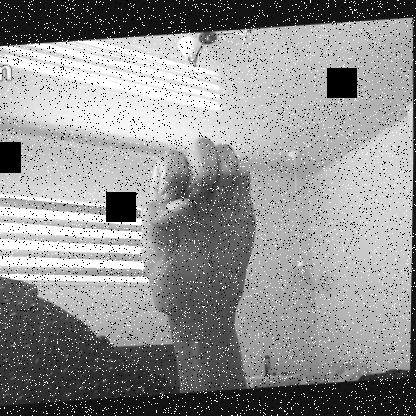E: (134, 134, 262, 320)
